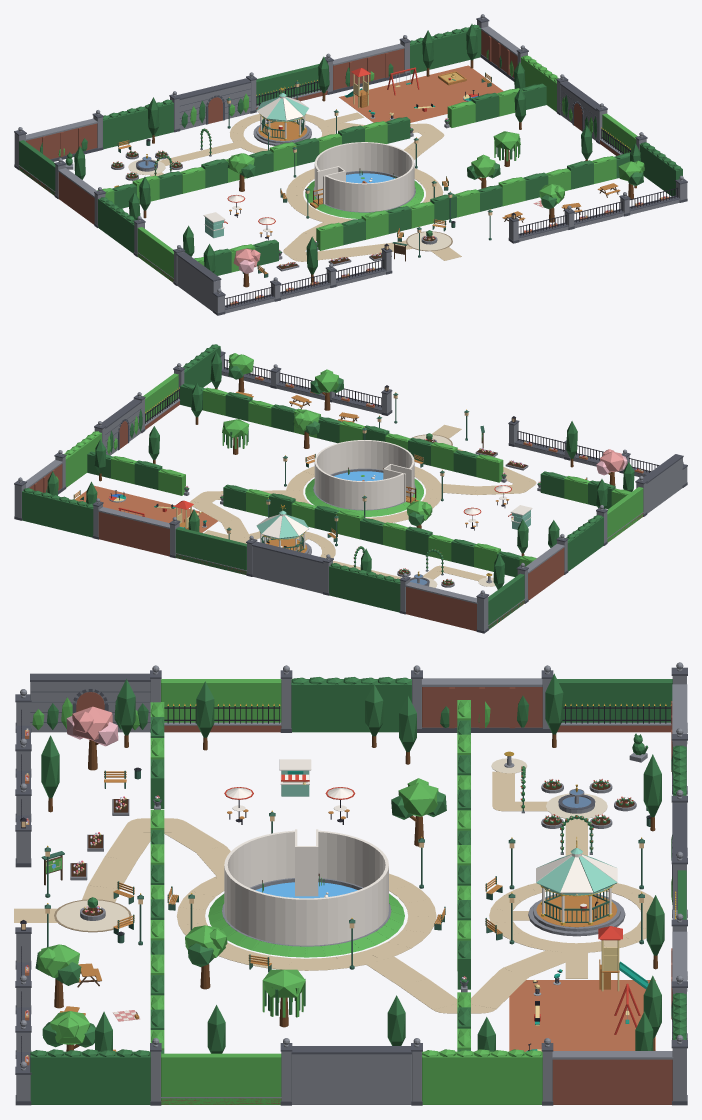
Rendered from CatCafe_Park_Set.glb.
3 views of the same model, one above another, from view 1: azimuth 30°, elevation 25°; view 2: azimuth 150°, elevation 25°; view 3: azimuth 270°, elevation 25° (orthographic). The views are drawn at different scales.
Visible parts, largest first — view 1: CatCafe_Park_Set, CatCafe_Park_Set_045_Hedge, CatCafe_Park_Set_048_Hedge, CatCafe_Park_Set_071_Pond_Barrier, CatCafe_Park_Set_006_WallStone, CatCafe_Park_Set_002_WallBrick, CatCafe_Park_Set_090_Bandstand, CatCafe_Park_Set_008_WallHedge, CatCafe_Park_Set_010_WallBrick, CatCafe_Park_Set_000_WallHedge, CatCafe_Park_Set_004_WallRail, CatCafe_Park_Set_011_WallStone (+23 smaller); view 2: CatCafe_Park_Set_048_Hedge, CatCafe_Park_Set_045_Hedge, CatCafe_Park_Set, CatCafe_Park_Set_071_Pond_Barrier, CatCafe_Park_Set_006_WallStone, CatCafe_Park_Set_000_WallHedge, CatCafe_Park_Set_008_WallHedge, CatCafe_Park_Set_002_WallBrick, CatCafe_Park_Set_010_WallBrick, CatCafe_Park_Set_004_WallRail, CatCafe_Park_Set_090_Bandstand, CatCafe_Park_Set_011_WallStone (+20 smaller); view 3: CatCafe_Park_Set, CatCafe_Park_Set_071_Pond_Barrier, CatCafe_Park_Set_024_WallStone, CatCafe_Park_Set_022_WallHedge, CatCafe_Park_Set_028_WallHedge, CatCafe_Park_Set_020_WallBrick, CatCafe_Park_Set_026_WallRail, CatCafe_Park_Set_017_WallBrick, CatCafe_Park_Set_090_Bandstand, CatCafe_Park_Set_019_WallRail, CatCafe_Park_Set_013_WallRail, CatCafe_Park_Set_015_WallHedge (+36 smaller).
Boxes of the visible parts, bbox=[...] form: CatCafe_Park_Set: bbox=[128, 65, 503, 261]; CatCafe_Park_Set_045_Hedge: bbox=[194, 152, 630, 275]; CatCafe_Park_Set_048_Hedge: bbox=[97, 83, 546, 208]; CatCafe_Park_Set_071_Pond_Barrier: bbox=[314, 142, 414, 211]; CatCafe_Park_Set_006_WallStone: bbox=[178, 78, 251, 130]; CatCafe_Park_Set_002_WallBrick: bbox=[333, 43, 404, 93]; CatCafe_Park_Set_090_Bandstand: bbox=[253, 86, 311, 145]; CatCafe_Park_Set_008_WallHedge: bbox=[103, 99, 173, 149]; CatCafe_Park_Set_010_WallBrick: bbox=[26, 118, 97, 161]; CatCafe_Park_Set_000_WallHedge: bbox=[410, 24, 481, 74]; CatCafe_Park_Set_004_WallRail: bbox=[256, 64, 327, 109]; CatCafe_Park_Set_011_WallStone: bbox=[176, 252, 221, 311]; CatCafe_Park_Set_048_Hedge: bbox=[87, 451, 536, 576]; CatCafe_Park_Set_045_Hedge: bbox=[180, 383, 631, 508]; CatCafe_Park_Set: bbox=[76, 424, 536, 587]; CatCafe_Park_Set_071_Pond_Barrier: bbox=[314, 440, 414, 509]; CatCafe_Park_Set_006_WallStone: bbox=[252, 541, 325, 593]; CatCafe_Park_Set_000_WallHedge: bbox=[22, 488, 93, 537]; CatCafe_Park_Set_008_WallHedge: bbox=[329, 563, 400, 612]; CatCafe_Park_Set_002_WallBrick: bbox=[98, 507, 169, 556]; CatCafe_Park_Set_010_WallBrick: bbox=[405, 582, 477, 631]; CatCafe_Park_Set_004_WallRail: bbox=[175, 527, 246, 574]; CatCafe_Park_Set_090_Bandstand: bbox=[256, 504, 311, 554]; CatCafe_Park_Set_011_WallStone: bbox=[643, 454, 683, 513]; CatCafe_Park_Set: bbox=[14, 758, 662, 1051]; CatCafe_Park_Set_071_Pond_Barrier: bbox=[224, 829, 388, 945]; CatCafe_Park_Set_024_WallStone: bbox=[291, 1046, 412, 1104]; CatCafe_Park_Set_022_WallHedge: bbox=[422, 1049, 542, 1104]; CatCafe_Park_Set_028_WallHedge: bbox=[30, 1049, 150, 1104]; CatCafe_Park_Set_020_WallBrick: bbox=[552, 1051, 673, 1104]; CatCafe_Park_Set_026_WallRail: bbox=[160, 1053, 281, 1104]; CatCafe_Park_Set_017_WallBrick: bbox=[421, 678, 542, 732]; CatCafe_Park_Set_090_Bandstand: bbox=[528, 837, 625, 936]; CatCafe_Park_Set_019_WallRail: bbox=[557, 679, 672, 732]; CatCafe_Park_Set_013_WallRail: bbox=[161, 679, 281, 732]; CatCafe_Park_Set_015_WallHedge: bbox=[291, 677, 411, 732].
Size of the model in its own units: 160 by 15.32 by 120.
1 material, 1 textured.
